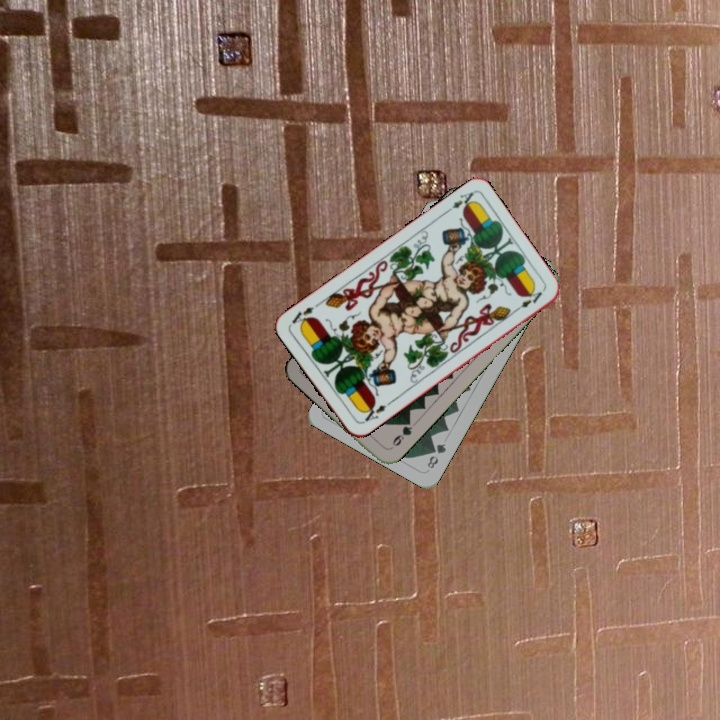EA: (441, 188, 478, 216), (358, 398, 394, 426)
G8: (423, 439, 449, 471)
G9: (388, 415, 415, 449)
